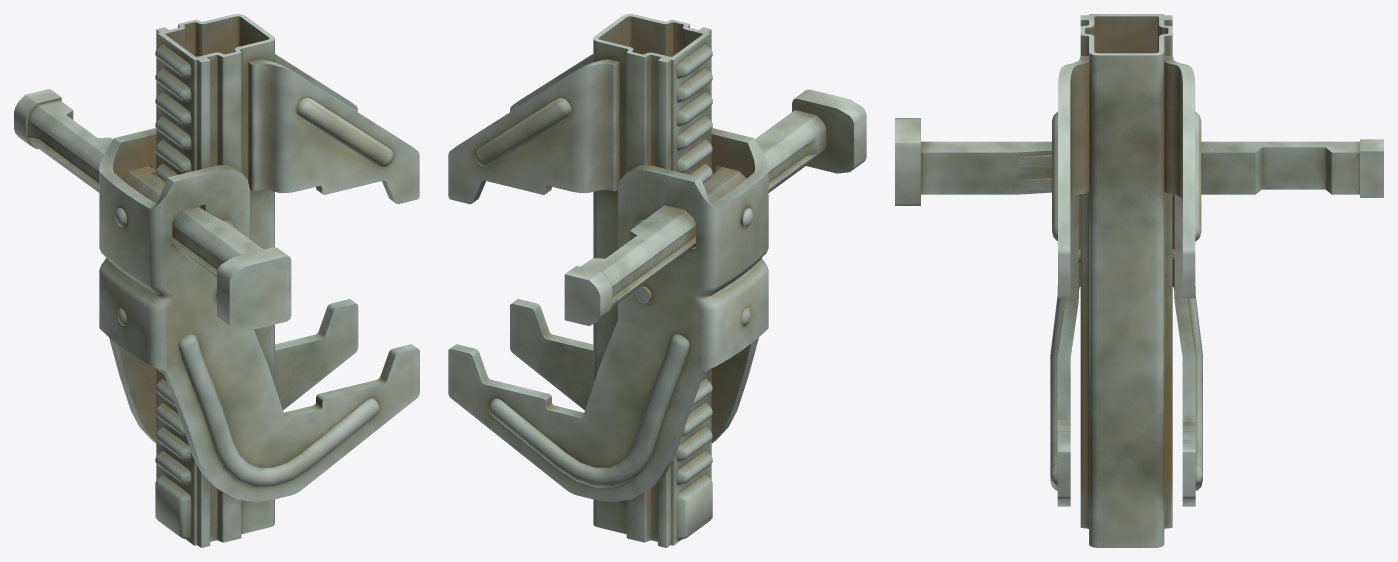
Rendered from Rack-lock.glb.
3 views of the same model, side by side, from view 1: azimuth 30°, elevation 25°; view 2: azimuth 150°, elevation 25°; view 3: azimuth 270°, elevation 25° (orthographic).
Parts seen in each view (by area): view 1: rack_lock; view 2: rack_lock; view 3: rack_lock.
Boxes of the visible parts, left/top/right/bottom form: rack_lock: left=14, top=14, right=419, bottom=547; rack_lock: left=448, top=14, right=866, bottom=547; rack_lock: left=895, top=14, right=1383, bottom=547.
Size of the model in its own units: 0.1678 by 0.288 by 0.259.
1 material, 1 textured.
